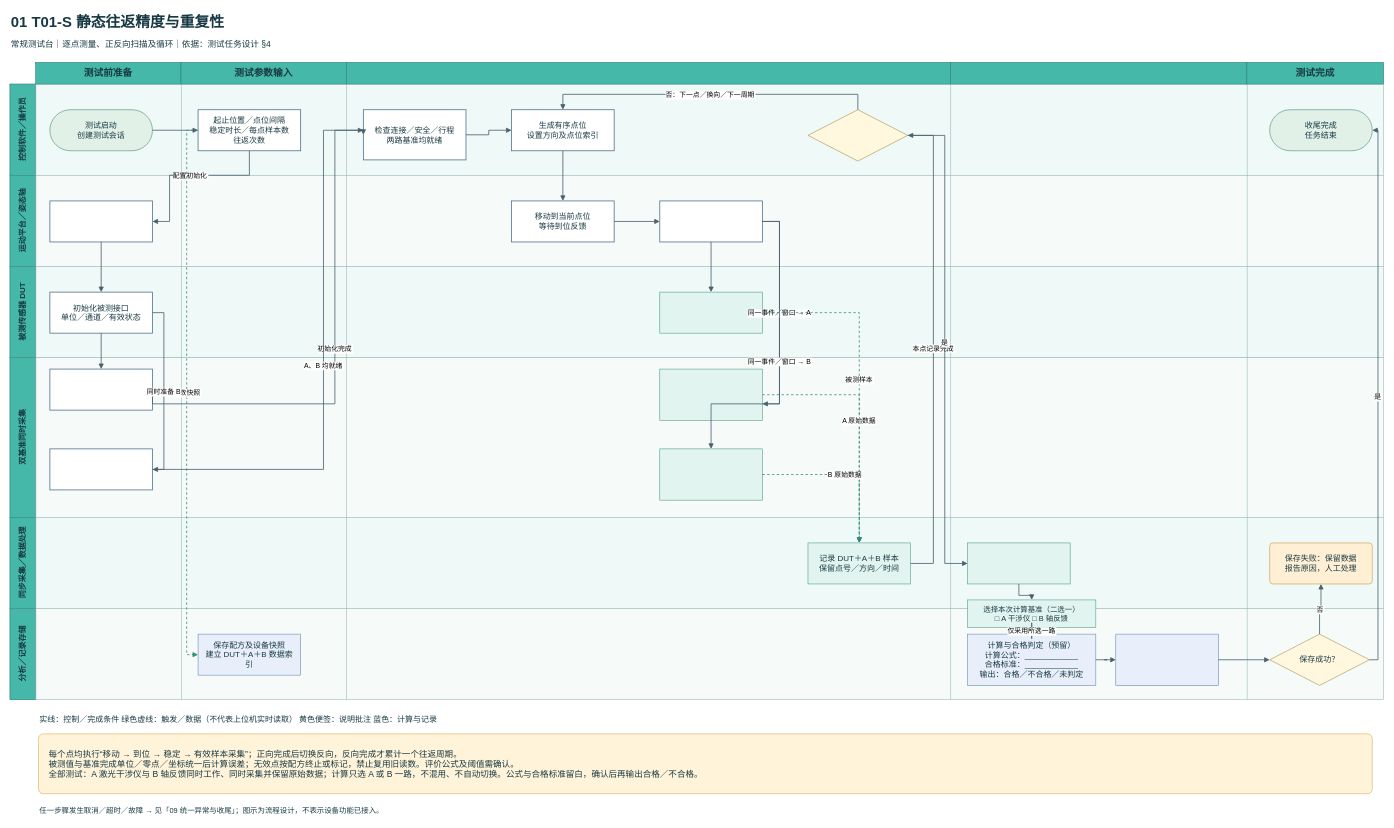
Some shapes in this 1394 by 828 pixel diagram are drawn without their labels. The shapes that lost their labels are listed below. From the top down, each one's box as (x1, y1, x2, y2) in pixels, then its label:
(346, 62, 950, 84): 测试执行
(950, 62, 1247, 84): 测试结果输出
(807, 109, 908, 161): 双向点位及 往返次数完成？
(49, 200, 153, 242): 轴状态与限位检查
(659, 200, 762, 242): 到位后等待稳定时长
(659, 292, 762, 333): 读取 K 个有效样本
(49, 368, 153, 410): 基准 A：激光干涉仪 初始化／坐标与零点
(659, 369, 762, 420): 基准 A：激光干涉仪 采集当前点 K 个样本
(49, 448, 153, 490): 基准 B：测试台编码器 初始化／坐标与零点
(659, 448, 762, 500): 基准 B：测试台编码器 采集当前点 K 个样本
(967, 542, 1070, 584): 校验点位完整性 样本数量与测量质量
(1115, 634, 1218, 685): 保存 DUT＋两路基准原始数据 所选计算基准、结果与质量 标准未定时标记“未判定”
